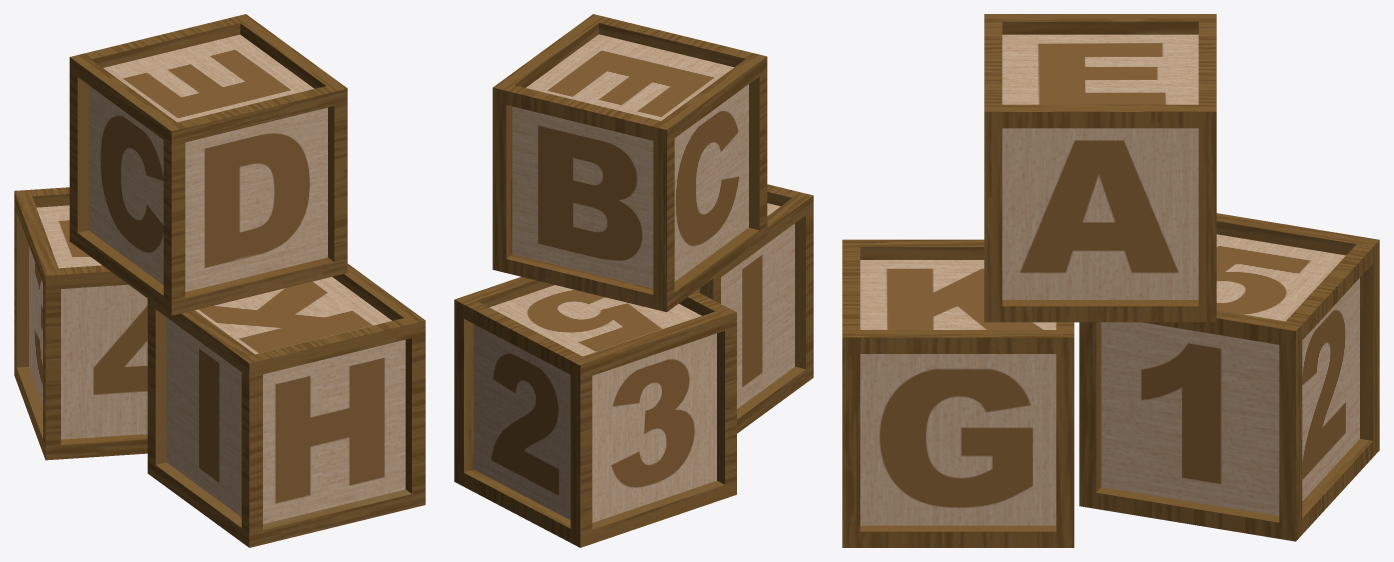
The model's file is Dado_Dividido.fbx.
The picture shows the model from 3 angles, left to right: view 1: azimuth 30°, elevation 25°; view 2: azimuth 150°, elevation 25°; view 3: azimuth 270°, elevation 25°; orthographic projection. The views are drawn at different scales.
Visible parts, largest first — view 1: pCube7.001, pCube7.002, pCube7; view 2: pCube7.001, pCube7, pCube7.002; view 3: pCube7, pCube7.001, pCube7.002.
Boxes of the visible parts, x1,y1,x2,y2 form: pCube7.001: (69,14,347,315); pCube7.002: (147,264,425,547); pCube7: (14,187,147,460); pCube7.001: (492,14,767,312); pCube7: (454,277,736,547); pCube7.002: (696,184,813,433); pCube7: (1079,213,1379,541); pCube7.001: (984,14,1216,322); pCube7.002: (842,239,1074,547).
Size of the model in its own units: 0.0878 by 0.1497 by 0.1313.
Materials: 1 (1 with a texture image).
